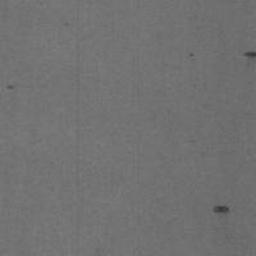Inclusion: (211, 204, 232, 215), (242, 50, 256, 60), (5, 83, 17, 91), (188, 52, 196, 58)
